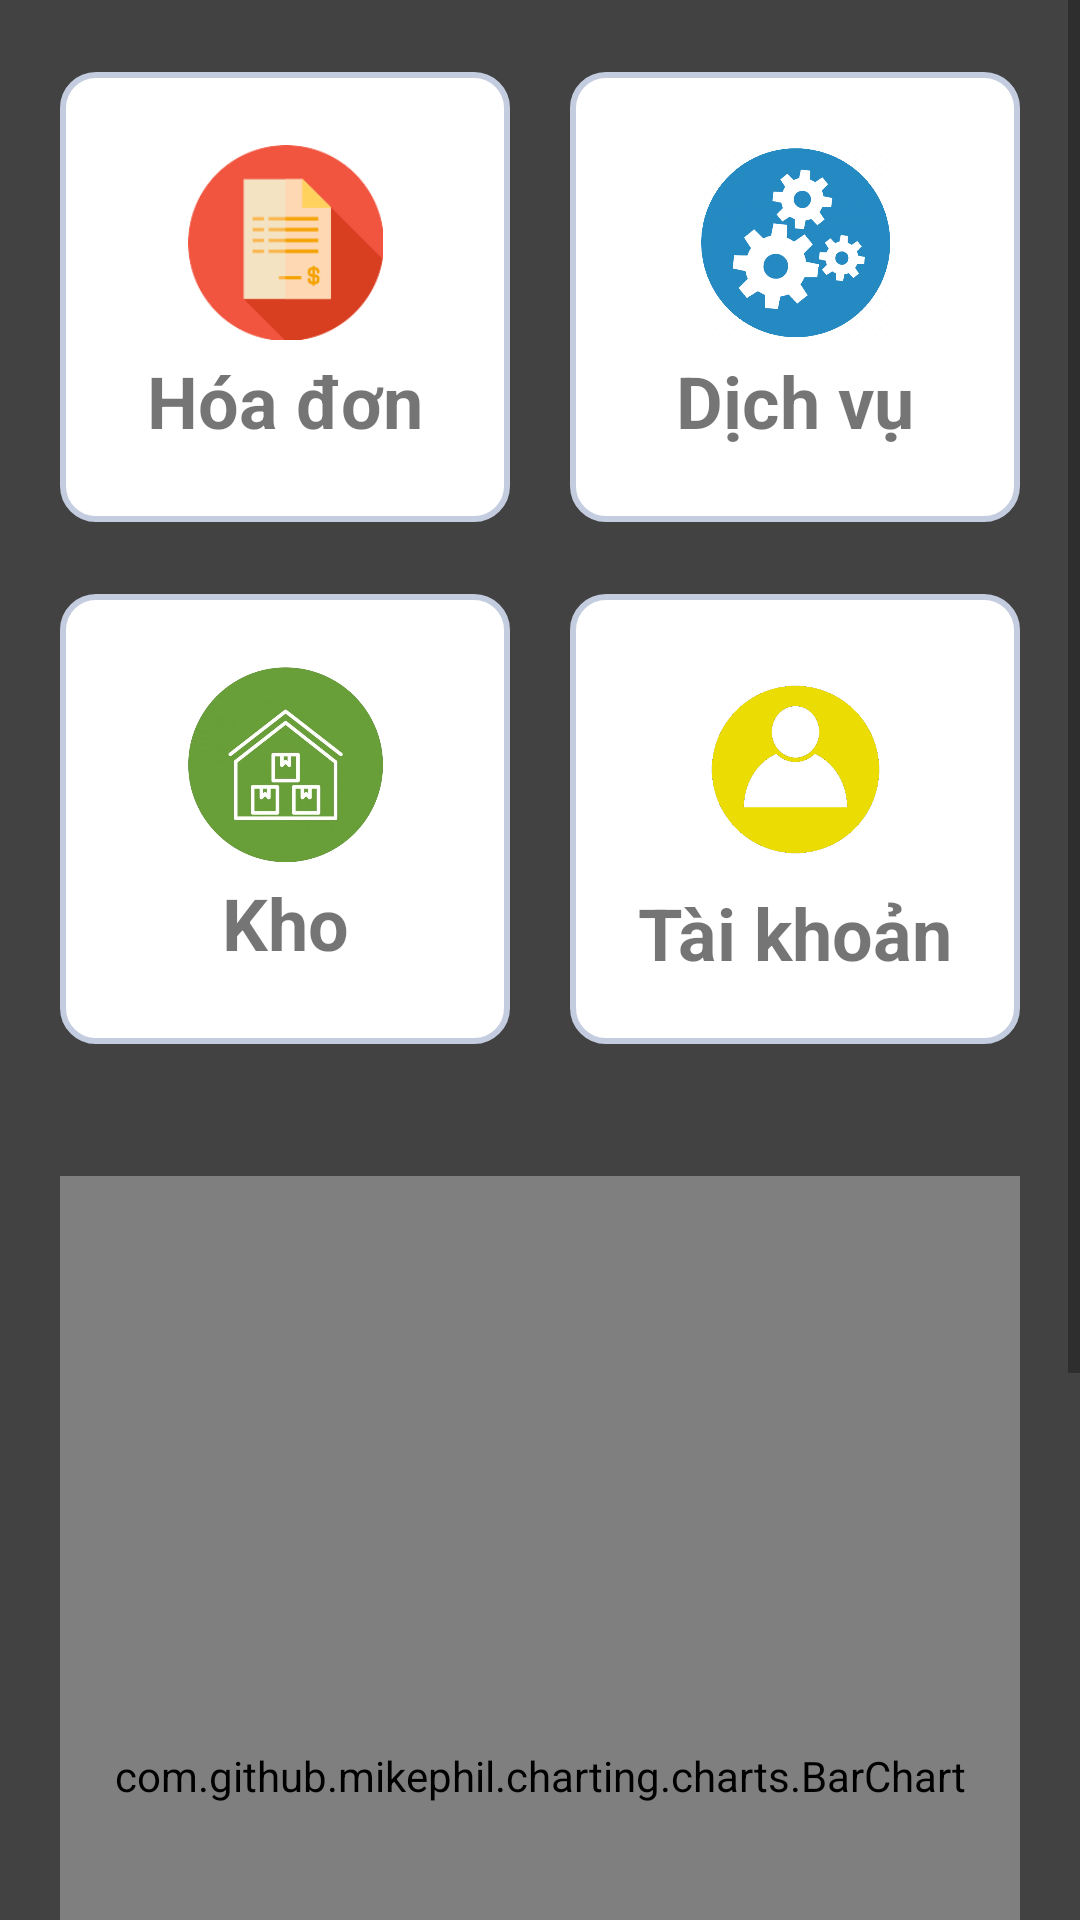

Icons on this 1080px×1920px Android screen, each with the point to tap as (x,y):
person: (795,769)
